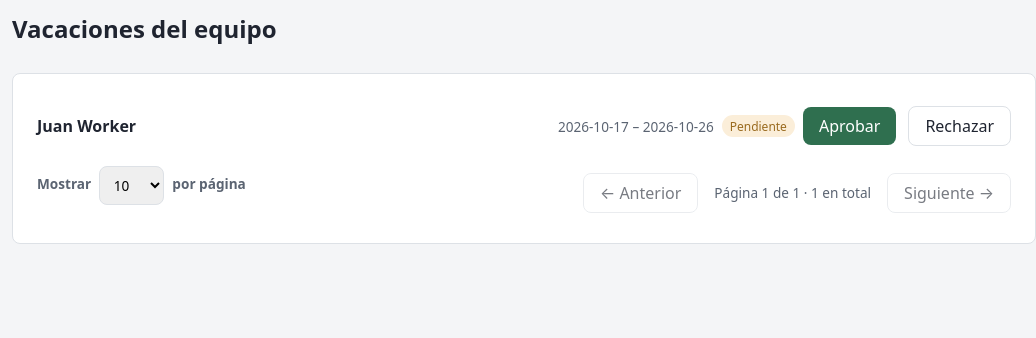
Test case: SupervisorVacations › muestra el mensaje de un ApiError si falla aprobar una solicitud
Expected: the text "Juan Worker" is shown, [37,115,136,137]
Click the button "Aprobar".
click(850, 126)  # box [803,107,896,145]
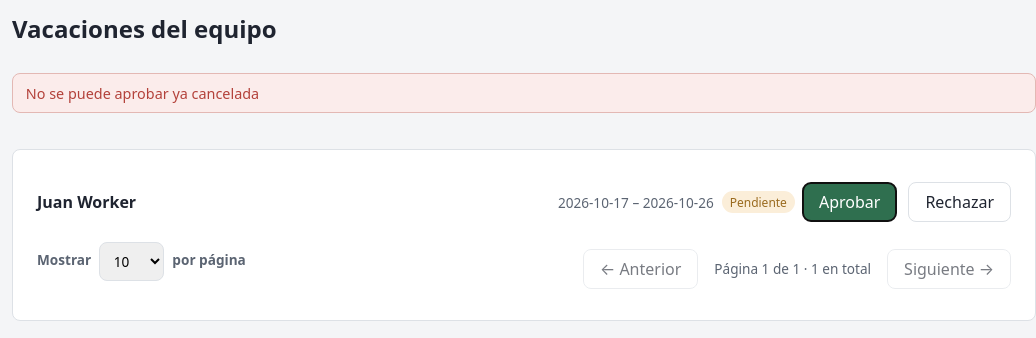
Expected: the text "No se puede aprobar ya cancelada" is shown, [12,73,1035,113]
